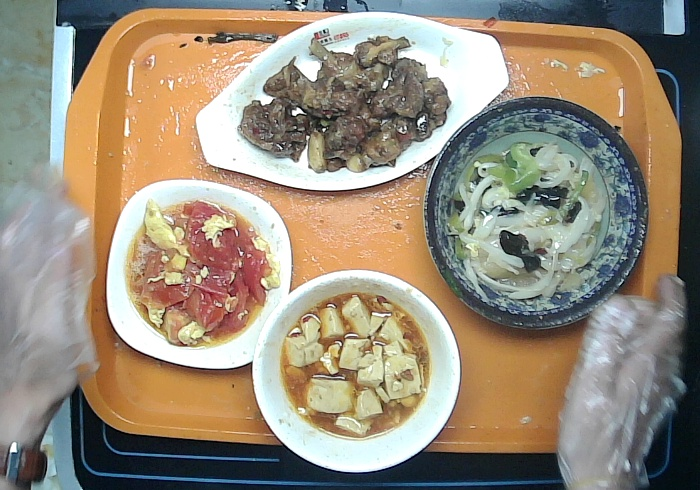ZNLD-Qing_Hua_Wan: (419, 92, 649, 333)
ZNLD-Si_Fang_Wan: (106, 178, 295, 376)
ZNLD-Tang_Wan: (251, 267, 464, 473)
ZNLD-Yu_Pan: (197, 8, 509, 198)
